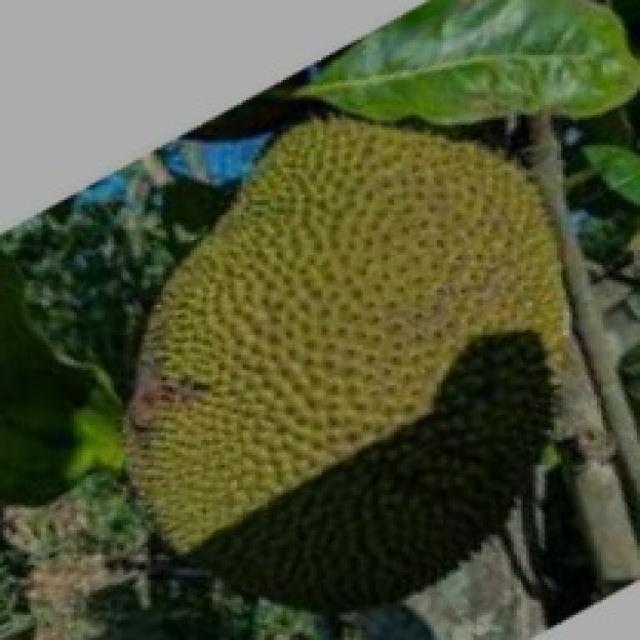Fruit: (64, 147, 498, 585), (172, 50, 634, 438)
